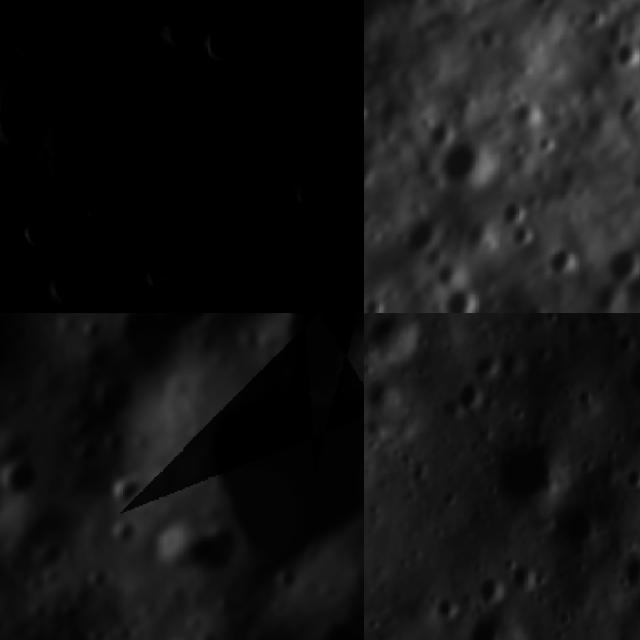crater: (132, 483, 252, 601), (429, 129, 515, 214), (68, 353, 154, 438), (487, 429, 572, 513), (86, 443, 160, 518), (0, 78, 55, 160), (129, 313, 240, 353), (549, 500, 614, 561), (0, 435, 53, 509), (388, 208, 450, 268), (364, 313, 430, 369), (182, 192, 232, 258), (94, 500, 150, 556), (36, 259, 91, 313), (196, 17, 247, 71), (428, 276, 502, 313), (538, 240, 590, 292), (289, 159, 334, 212), (72, 555, 120, 603), (506, 547, 550, 598), (147, 5, 198, 45), (470, 340, 512, 388), (599, 243, 640, 291), (263, 556, 306, 600), (462, 610, 520, 640), (526, 130, 568, 171), (618, 340, 640, 418), (63, 313, 109, 350), (503, 219, 545, 259), (605, 91, 640, 137), (510, 94, 550, 134), (453, 381, 490, 424), (474, 572, 511, 610), (140, 255, 177, 292), (20, 212, 59, 247), (83, 189, 114, 227), (617, 544, 640, 590), (364, 286, 403, 313), (498, 201, 529, 233), (364, 93, 382, 133), (528, 0, 562, 18), (239, 299, 277, 313)
